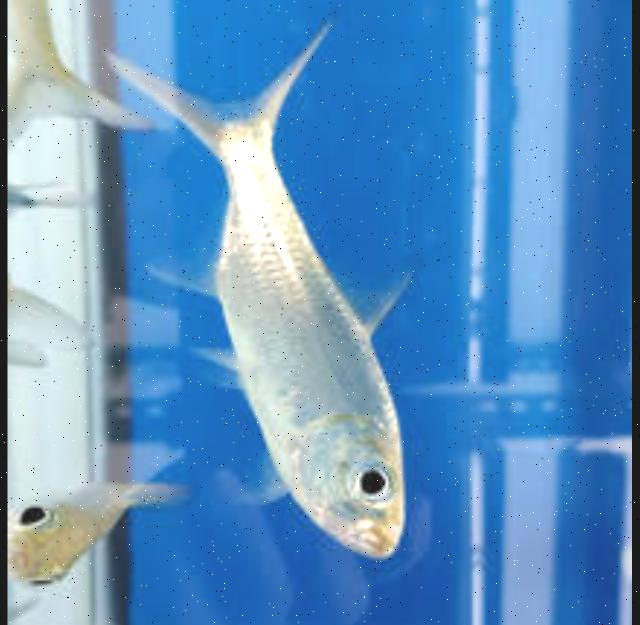Mulut: (340, 520, 420, 571)
Sirip Anal: (138, 237, 259, 316)
Sirip Ekor: (106, 8, 350, 140)
Sirip Perut: (183, 339, 270, 408)
Sirip Punggung: (326, 243, 424, 346)
